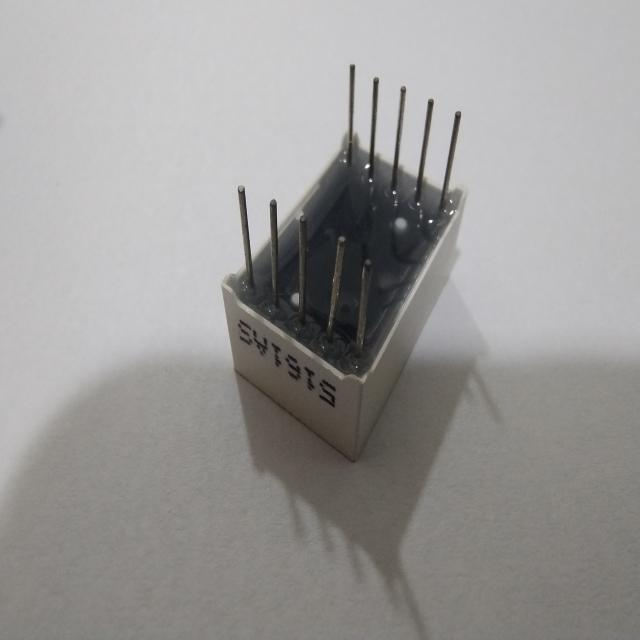7_segments: (216, 49, 478, 475)
